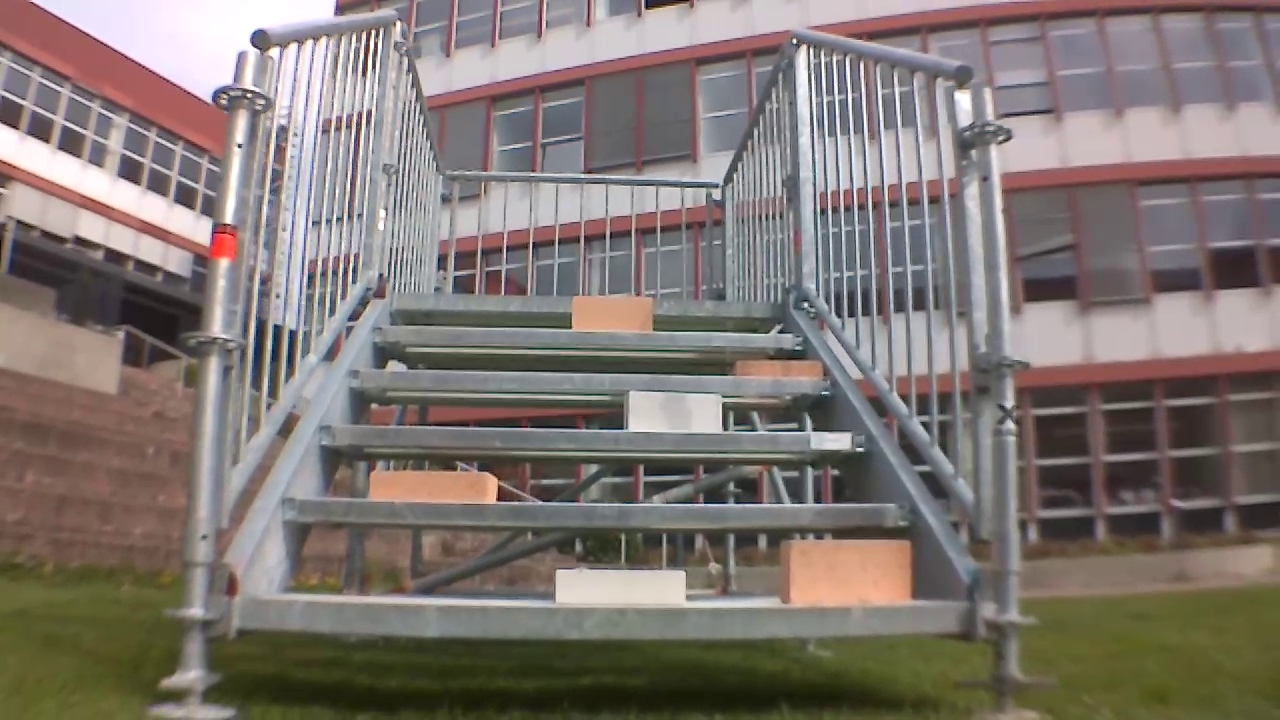brick: (784, 540, 908, 609), (624, 390, 728, 431), (554, 571, 686, 600), (353, 472, 500, 498), (567, 295, 654, 331), (731, 361, 823, 381)
edge: (239, 601, 988, 638), (286, 502, 911, 528), (318, 431, 870, 449), (348, 369, 838, 387), (372, 326, 810, 344), (389, 298, 789, 315)
stairs: (188, 8, 1018, 682)
steps: (227, 297, 977, 632)
